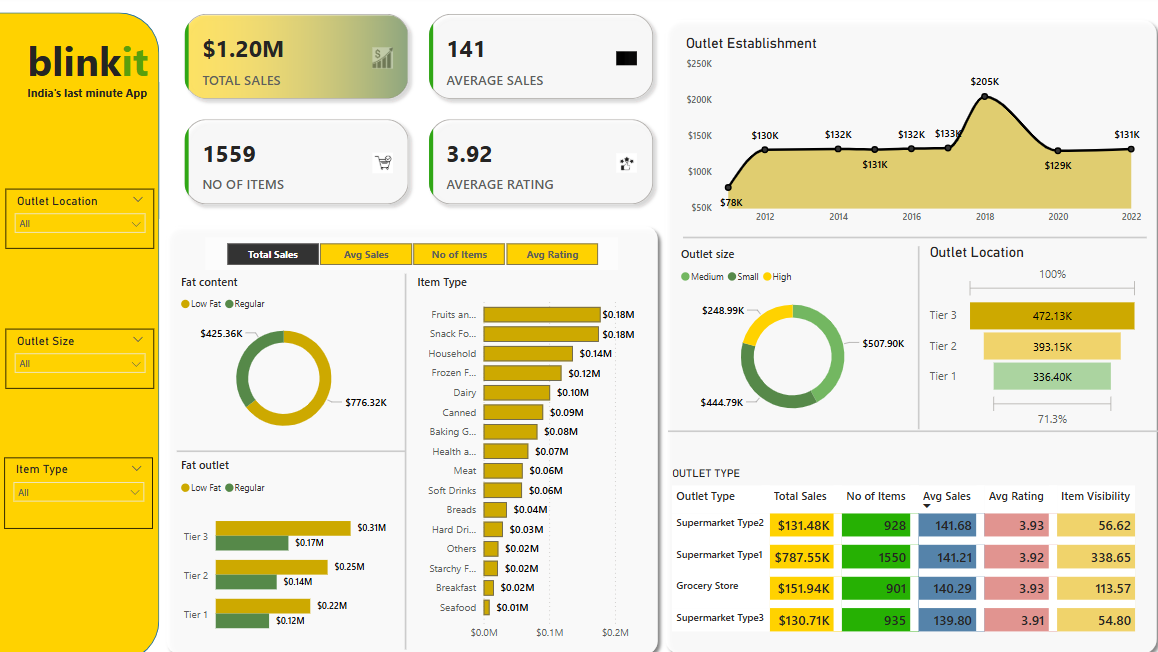

Layout of this report page (visuals, bound fields, positions):
{"tool":"powerbi","page":{"name":"Page 1","canvas":[1400,800],"ordinal":0},"visuals":[{"type":"shape","box":[0,21,193.6,778.9],"z":0},{"type":"textbox","box":[30.2,39.8,185.2,82.3],"z":1000},{"type":"textbox","box":[30,104.3,185.2,40],"z":2000},{"type":"cardVisual","fields":{"Data":["BlinkIT.Total Sales","BlinkIT.Avg Sales","BlinkIT.No of Items","BlinkIT.Avg Rating"]},"box":[207.6,6.1,597,262.1],"z":3000},{"type":"shape","box":[193.9,268.2,607.6,531.8],"z":4000},{"type":"donutChart","title":"Fat content","fields":{"Y":["BlinkIT.Total Sales"],"Category":["BlinkIT.Item Fat Content"]},"box":[215.2,334.8,257.6,206.1],"z":5000},{"type":"slicer","fields":{"Values":["Metrics.Metrics"]},"box":[248.5,290.9,495.5,39.4],"z":6000},{"type":"clusteredBarChart","title":"Fat outlet","fields":{"Y":["BlinkIT.Total Sales"],"Series":["BlinkIT.Item Fat Content"],"Category":["BlinkIT.Outlet Location Type"]},"box":[215.2,556.1,257.6,230.3],"z":7000},{"type":"shape","box":[214.6,540.3,274.7,15],"z":8000},{"type":"shape","box":[480.3,334.8,18.2,451.5],"z":9000},{"type":"barChart","title":"Item Type","fields":{"Y":["BlinkIT.Total Sales"],"Category":["BlinkIT.Item Type"]},"box":[498.3,334.7,288.2,448.8],"z":10000},{"type":"shape","box":[792.5,21,607.8,778.9],"z":11000},{"type":"lineChart","title":"Outlet Establishment","fields":{"Category":["BlinkIT.Outlet Establishment Year"],"Y":["BlinkIT.Total Sales"]},"box":[821,48,556.8,235.6],"z":12000},{"type":"shape","box":[822.5,283.7,556.8,15],"z":13000},{"type":"donutChart","title":"Outlet size","fields":{"Y":["BlinkIT.Total Sales"],"Category":["BlinkIT.Outlet Size"]},"box":[815.2,301.5,278.8,219.7],"z":14000},{"type":"shape","box":[1097,301.5,16.7,219.7],"z":15000},{"type":"funnel","title":" Outlet Location ","fields":{"Y":["Sum(BlinkIT.Sales)"],"Category":["BlinkIT.Outlet Location Type"]},"box":[1113.6,298.7,261.2,225.1],"z":16000},{"type":"pivotTable","title":"OUTLET TYPE","fields":{"Values":["BlinkIT.Total Sales","BlinkIT.No of Items","BlinkIT.Avg Sales","BlinkIT.Avg Rating","Sum(BlinkIT.Item Visibility)"],"Rows":["BlinkIT.Outlet Type"]},"box":[804.5,567.3,588.3,205.6],"z":16001},{"type":"shape","box":[804.5,414.2,591.3,219.1],"z":16002},{"type":"slicer","fields":{"Values":["BlinkIT.Outlet Location Type"]},"box":[9,232.6,178.6,72],"z":16003},{"type":"slicer","fields":{"Values":["BlinkIT.Outlet Size"]},"box":[9,400.7,178.6,72],"z":16004},{"type":"slicer","fields":{"Values":["BlinkIT.Item Type"]},"box":[7.5,555.3,178.6,85.5],"z":16005}]}

Visuals, with their boxes in screenshot pixels (x1, y1, x2, y2), scaled from the page's 1400x800 canvas onto the 1158x652 screenshot:
shape: [0,17,160,651]
textbox: [25,32,178,100]
textbox: [25,85,178,118]
cardVisual - BlinkIT.Total Sales x BlinkIT.Avg Sales: [172,5,666,219]
shape: [160,219,663,651]
"Fat content" donutChart: [178,273,391,441]
slicer - Metrics.Metrics: [206,237,615,269]
"Fat outlet" clusteredBarChart: [178,453,391,641]
shape: [178,440,405,453]
shape: [397,273,412,641]
"Item Type" barChart: [412,273,651,639]
shape: [656,17,1157,651]
"Outlet Establishment" lineChart: [679,39,1140,231]
shape: [680,231,1141,243]
"Outlet size" donutChart: [674,246,905,425]
shape: [907,246,921,425]
" Outlet Location " funnel: [921,243,1137,427]
"OUTLET TYPE" pivotTable: [665,462,1152,630]
shape: [665,338,1155,516]
slicer - BlinkIT.Outlet Location Type: [7,190,155,248]
slicer - BlinkIT.Outlet Size: [7,327,155,385]
slicer - BlinkIT.Item Type: [6,453,154,522]
